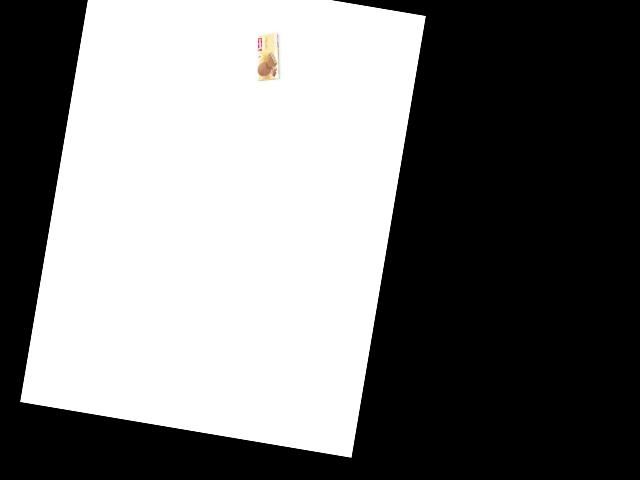chocolate: (249, 21, 283, 86)
